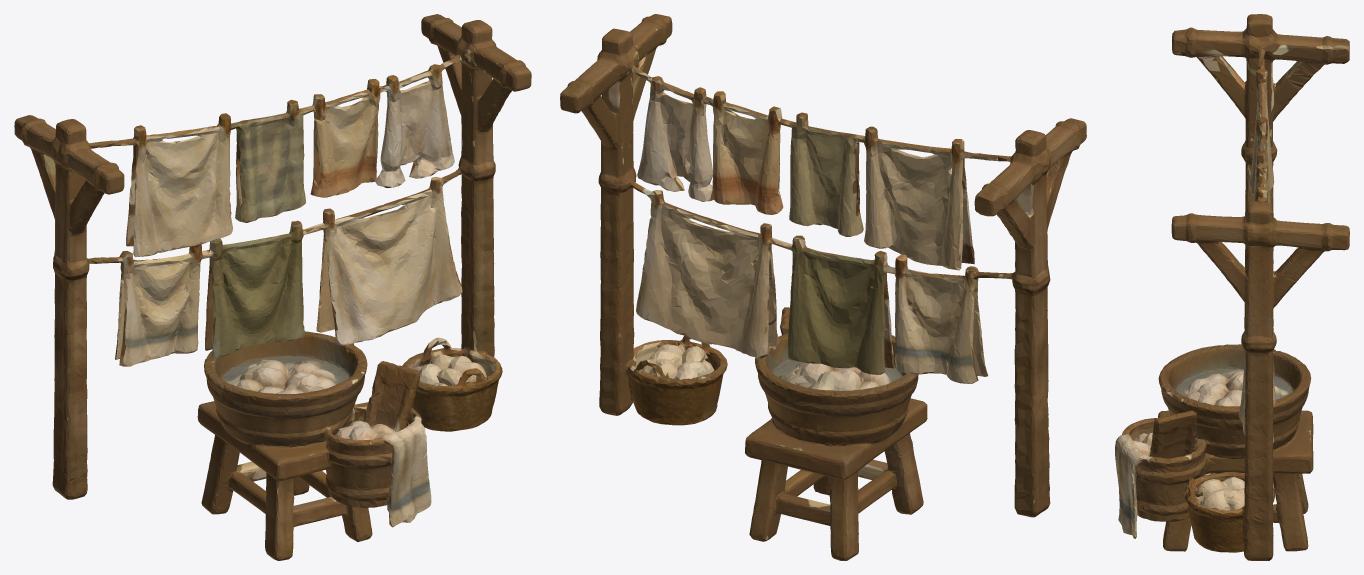
Rendered from wc-laundry-paint.glb.
The picture shows the model from 3 angles, left to right: view 1: azimuth 30°, elevation 25°; view 2: azimuth 150°, elevation 25°; view 3: azimuth 270°, elevation 25°; orthographic projection. The views are drawn at different scales.
Parts seen in each view (by area): view 1: geometry_0; view 2: geometry_0; view 3: geometry_0.
Boxes of the visible parts, x1,y1,x2,y2 form: geometry_0: (14,14,531,560); geometry_0: (560,14,1086,560); geometry_0: (1115,14,1349,560).
Size of the model in its own units: 2 by 1.94 by 0.9834.
1 material, 1 textured.
